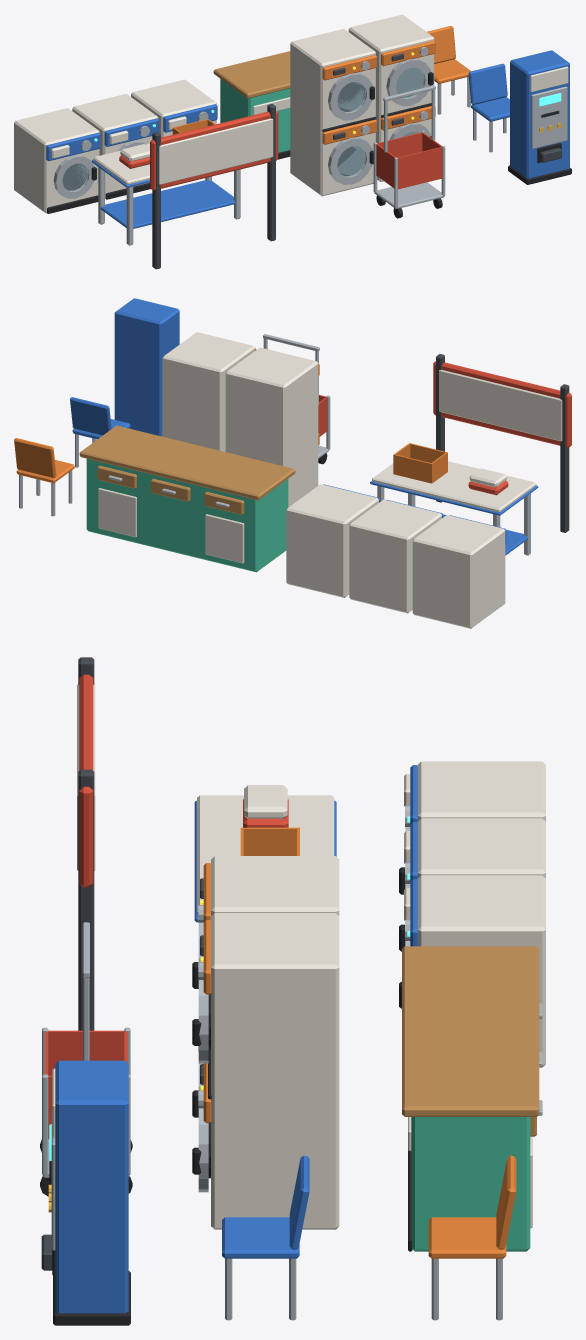
File: laundromat-shop-set.glb
The picture shows the model from 3 angles, top to bottom: view 1: azimuth 30°, elevation 25°; view 2: azimuth 150°, elevation 25°; view 3: azimuth 270°, elevation 25°; orthographic projection. The views are drawn at different scales.
Parts seen in each view (by area): view 1: DryerCol1_Body, Washer1_Body, Sign_Face, CM_Body, DryerCol2_Body, Table_Shelf, Cart_Bin, Washer2_Body, Counter_Top, Washer3_Body, Sign_Frame, Counter_Body (+33 smaller); view 2: DryerCol1_Body, Counter_Body, Washer1_Body, Counter_Top, DryerCol2_Body, CM_Body, Washer3_Body, Washer2_Body, Sign_Face, Table_Top, Sign_Frame, Table_Basket (+12 smaller); view 3: DryerCol2_Body, Counter_Top, CM_Body, Counter_Body, Washer3_Body, Washer2_Body, Washer1_Body, DryerCol1_Body, Table_Top, Plastic_Chair_Orange_Seat, Plastic_Chair_Blue_Seat, Sign_Frame (+10 smaller).
Part boxes in pixels (bbox=[...]): DryerCol1_Body: bbox=[290, 29, 375, 196]; Washer1_Body: bbox=[14, 108, 99, 213]; Sign_Face: bbox=[159, 118, 273, 184]; CM_Body: bbox=[510, 50, 569, 178]; DryerCol2_Body: bbox=[348, 14, 434, 181]; Table_Shelf: bbox=[100, 180, 235, 228]; Cart_Bin: bbox=[376, 132, 442, 189]; Washer2_Body: bbox=[72, 93, 158, 198]; Counter_Top: bbox=[213, 51, 290, 98]; Washer3_Body: bbox=[131, 79, 216, 137]; Sign_Frame: bbox=[150, 111, 278, 190]; Counter_Body: bbox=[220, 79, 290, 152]; DryerCol1_Body: bbox=[225, 347, 318, 507]; Counter_Body: bbox=[86, 458, 288, 572]; Washer1_Body: bbox=[412, 515, 505, 628]; Counter_Top: bbox=[79, 425, 295, 500]; DryerCol2_Body: bbox=[162, 332, 254, 451]; CM_Body: bbox=[114, 298, 179, 436]; Washer3_Body: bbox=[286, 484, 378, 597]; Washer2_Body: bbox=[349, 499, 441, 613]; Sign_Face: bbox=[439, 369, 562, 441]; Table_Top: bbox=[372, 461, 536, 512]; Sign_Frame: bbox=[433, 361, 571, 447]; Table_Basket: bbox=[393, 443, 447, 483]; DryerCol2_Body: bbox=[211, 913, 339, 1229]; Counter_Top: bbox=[402, 946, 539, 1116]; CM_Body: bbox=[55, 1060, 128, 1313]; Counter_Body: bbox=[411, 1117, 530, 1251]; Washer3_Body: bbox=[417, 875, 545, 1067]; Washer2_Body: bbox=[417, 818, 545, 878]; Washer1_Body: bbox=[417, 761, 545, 821]; DryerCol1_Body: bbox=[211, 856, 339, 915]; Table_Top: bbox=[197, 795, 334, 915]; Plastic_Chair_Orange_Seat: bbox=[428, 1217, 506, 1258]; Plastic_Chair_Blue_Seat: bbox=[222, 1217, 299, 1258]; Sign_Frame: bbox=[79, 674, 93, 887].
Size of the model in its own units: 22.01 by 6.5 by 11.05.
